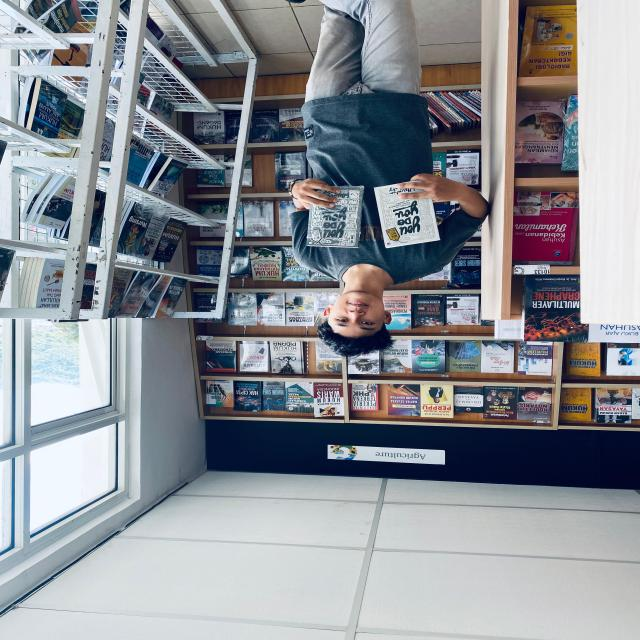nohelmet: (312, 279, 403, 359)
